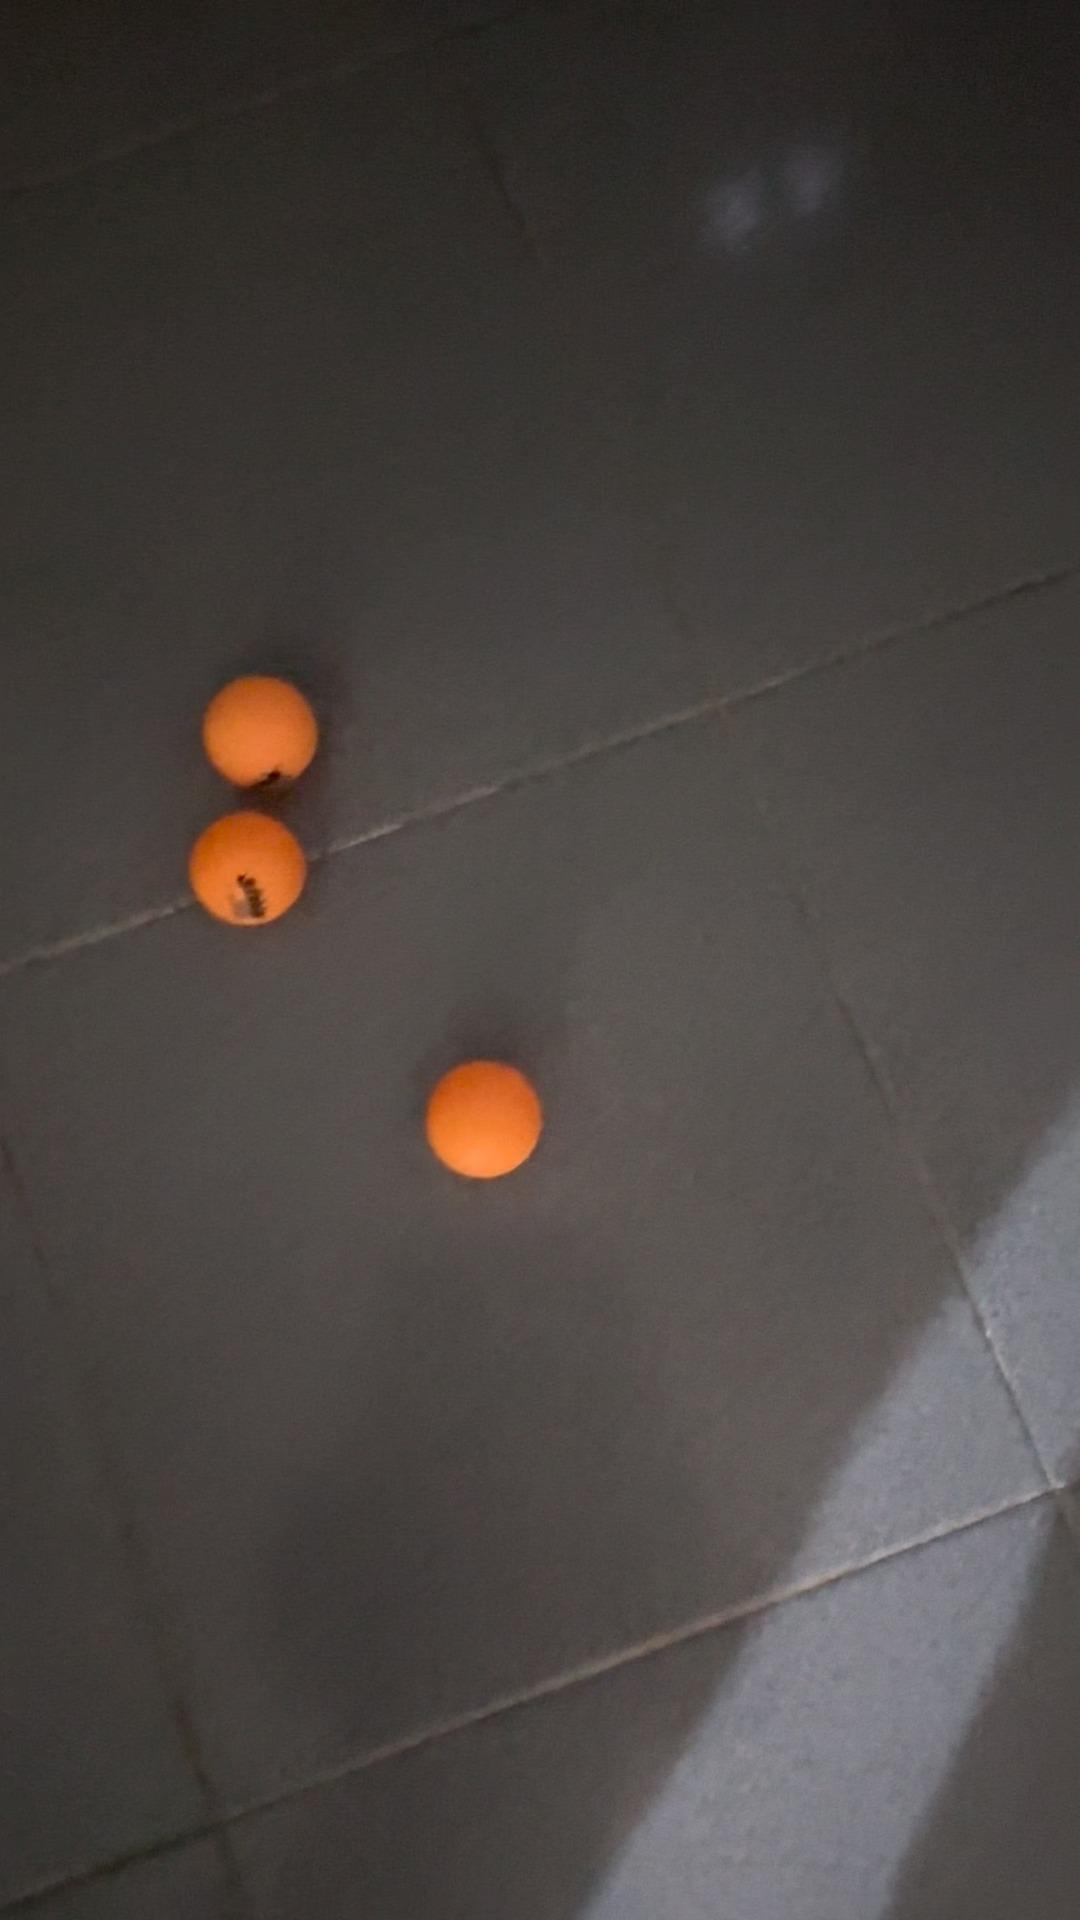oball: (418, 1044, 559, 1184), (187, 811, 313, 938), (198, 665, 322, 793)
